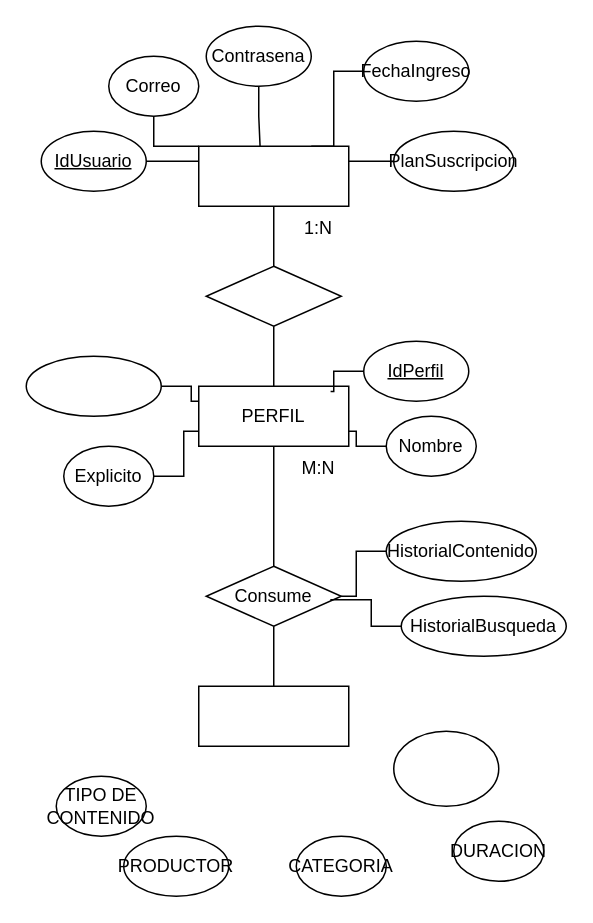
Image size: 593x923. Some labels were removed from this diagram. Here are the shapes that lost their labels. From the top down, the centre of each, then its label:
the point at 273,175: USUARIO
the point at 273,295: Tiene
the point at 93,385: IdiomaPreferido
the point at 273,715: CONTENIDO
the point at 445,768: FECHA DE LANZAMIENTO
